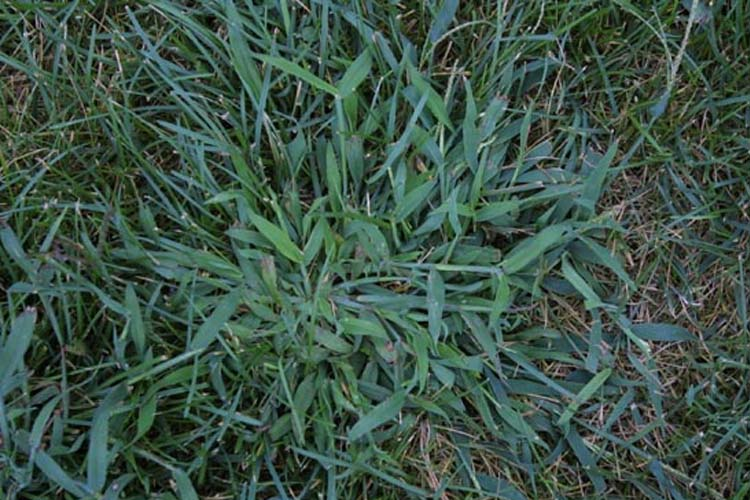crabgrass: (179, 91, 656, 457)
